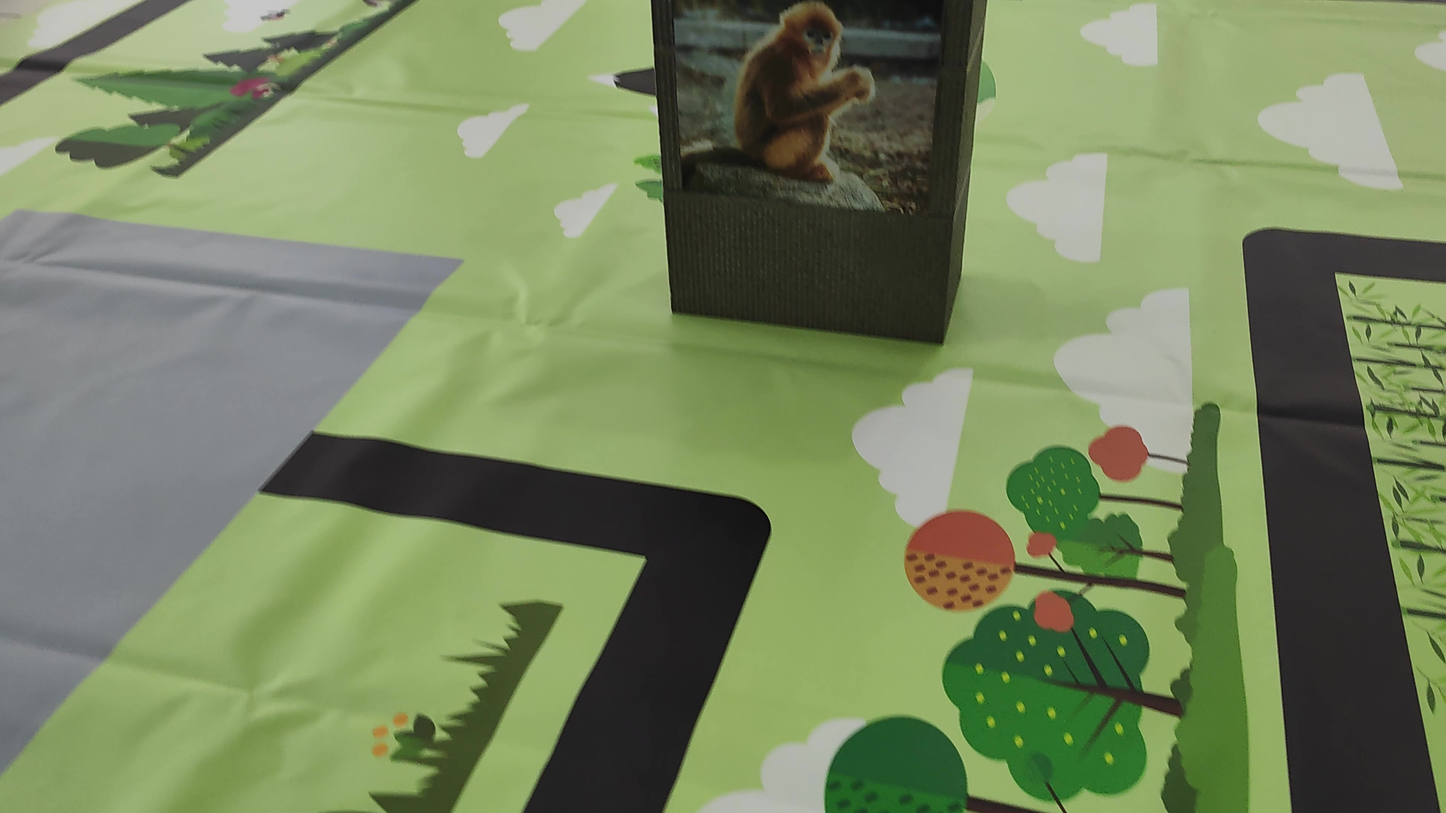monkey: (707, 1, 889, 198)
